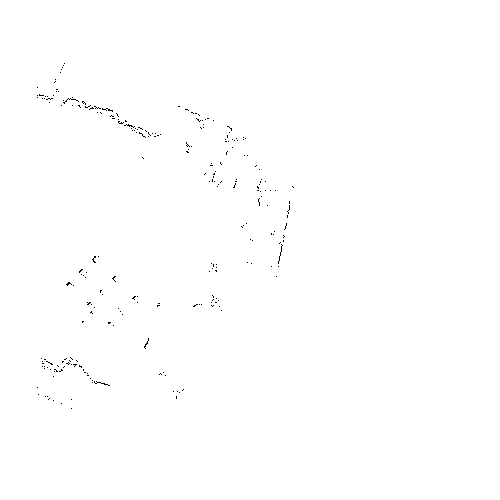pallet: (65, 255, 138, 327)
